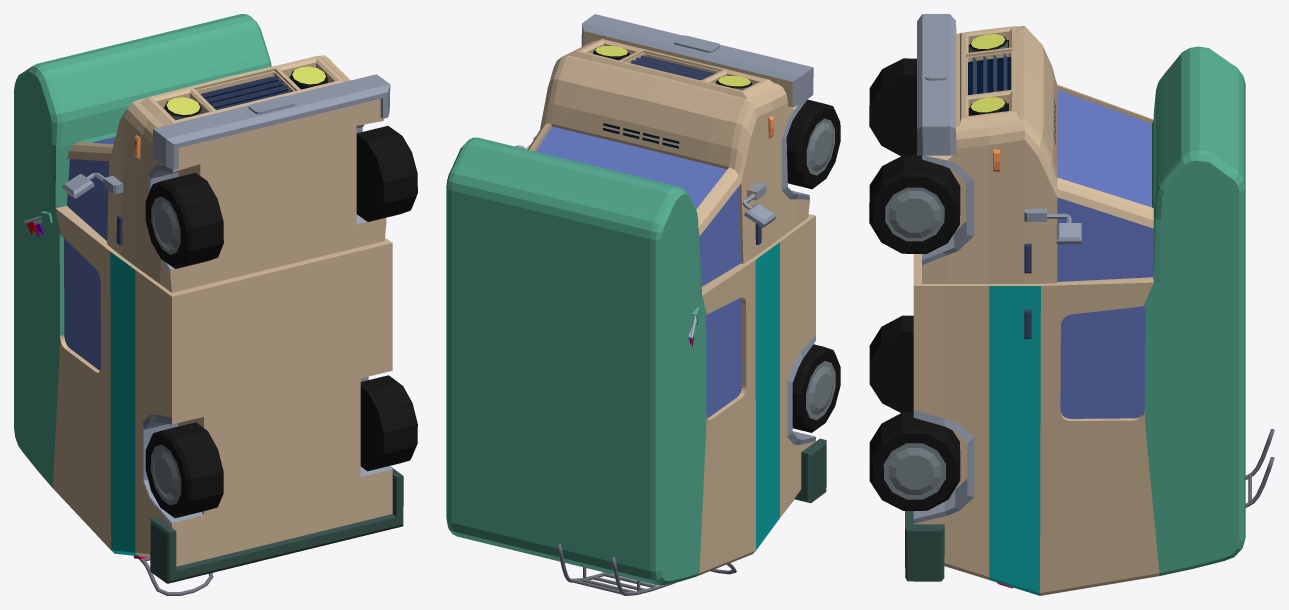
Rendered from Van 1.fbx.
3 renders of one model, left to right at view 1: azimuth 30°, elevation 25°; view 2: azimuth 150°, elevation 25°; view 3: azimuth 270°, elevation 25°, orthographic. The views are drawn at different scales.
Parts seen in each view (by area): view 1: Van; view 2: Van; view 3: Van.
Boxes of the visible parts, x1=… form: Van: x1=14, y1=14, x2=417, y2=595; Van: x1=446, y1=14, x2=840, y2=595; Van: x1=869, y1=14, x2=1274, y2=595.
Size of the model in its own units: 2.94 by 5.09 by 3.6.
